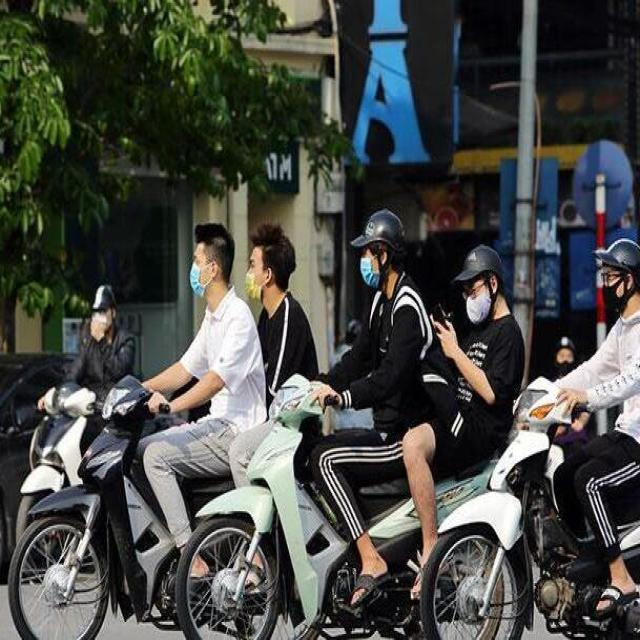no_helmet: (241, 212, 301, 318), (180, 208, 238, 310)
